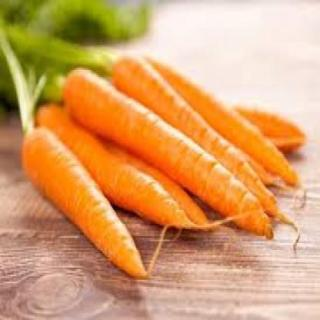Wortel: (64, 68, 275, 239), (22, 125, 148, 276)
